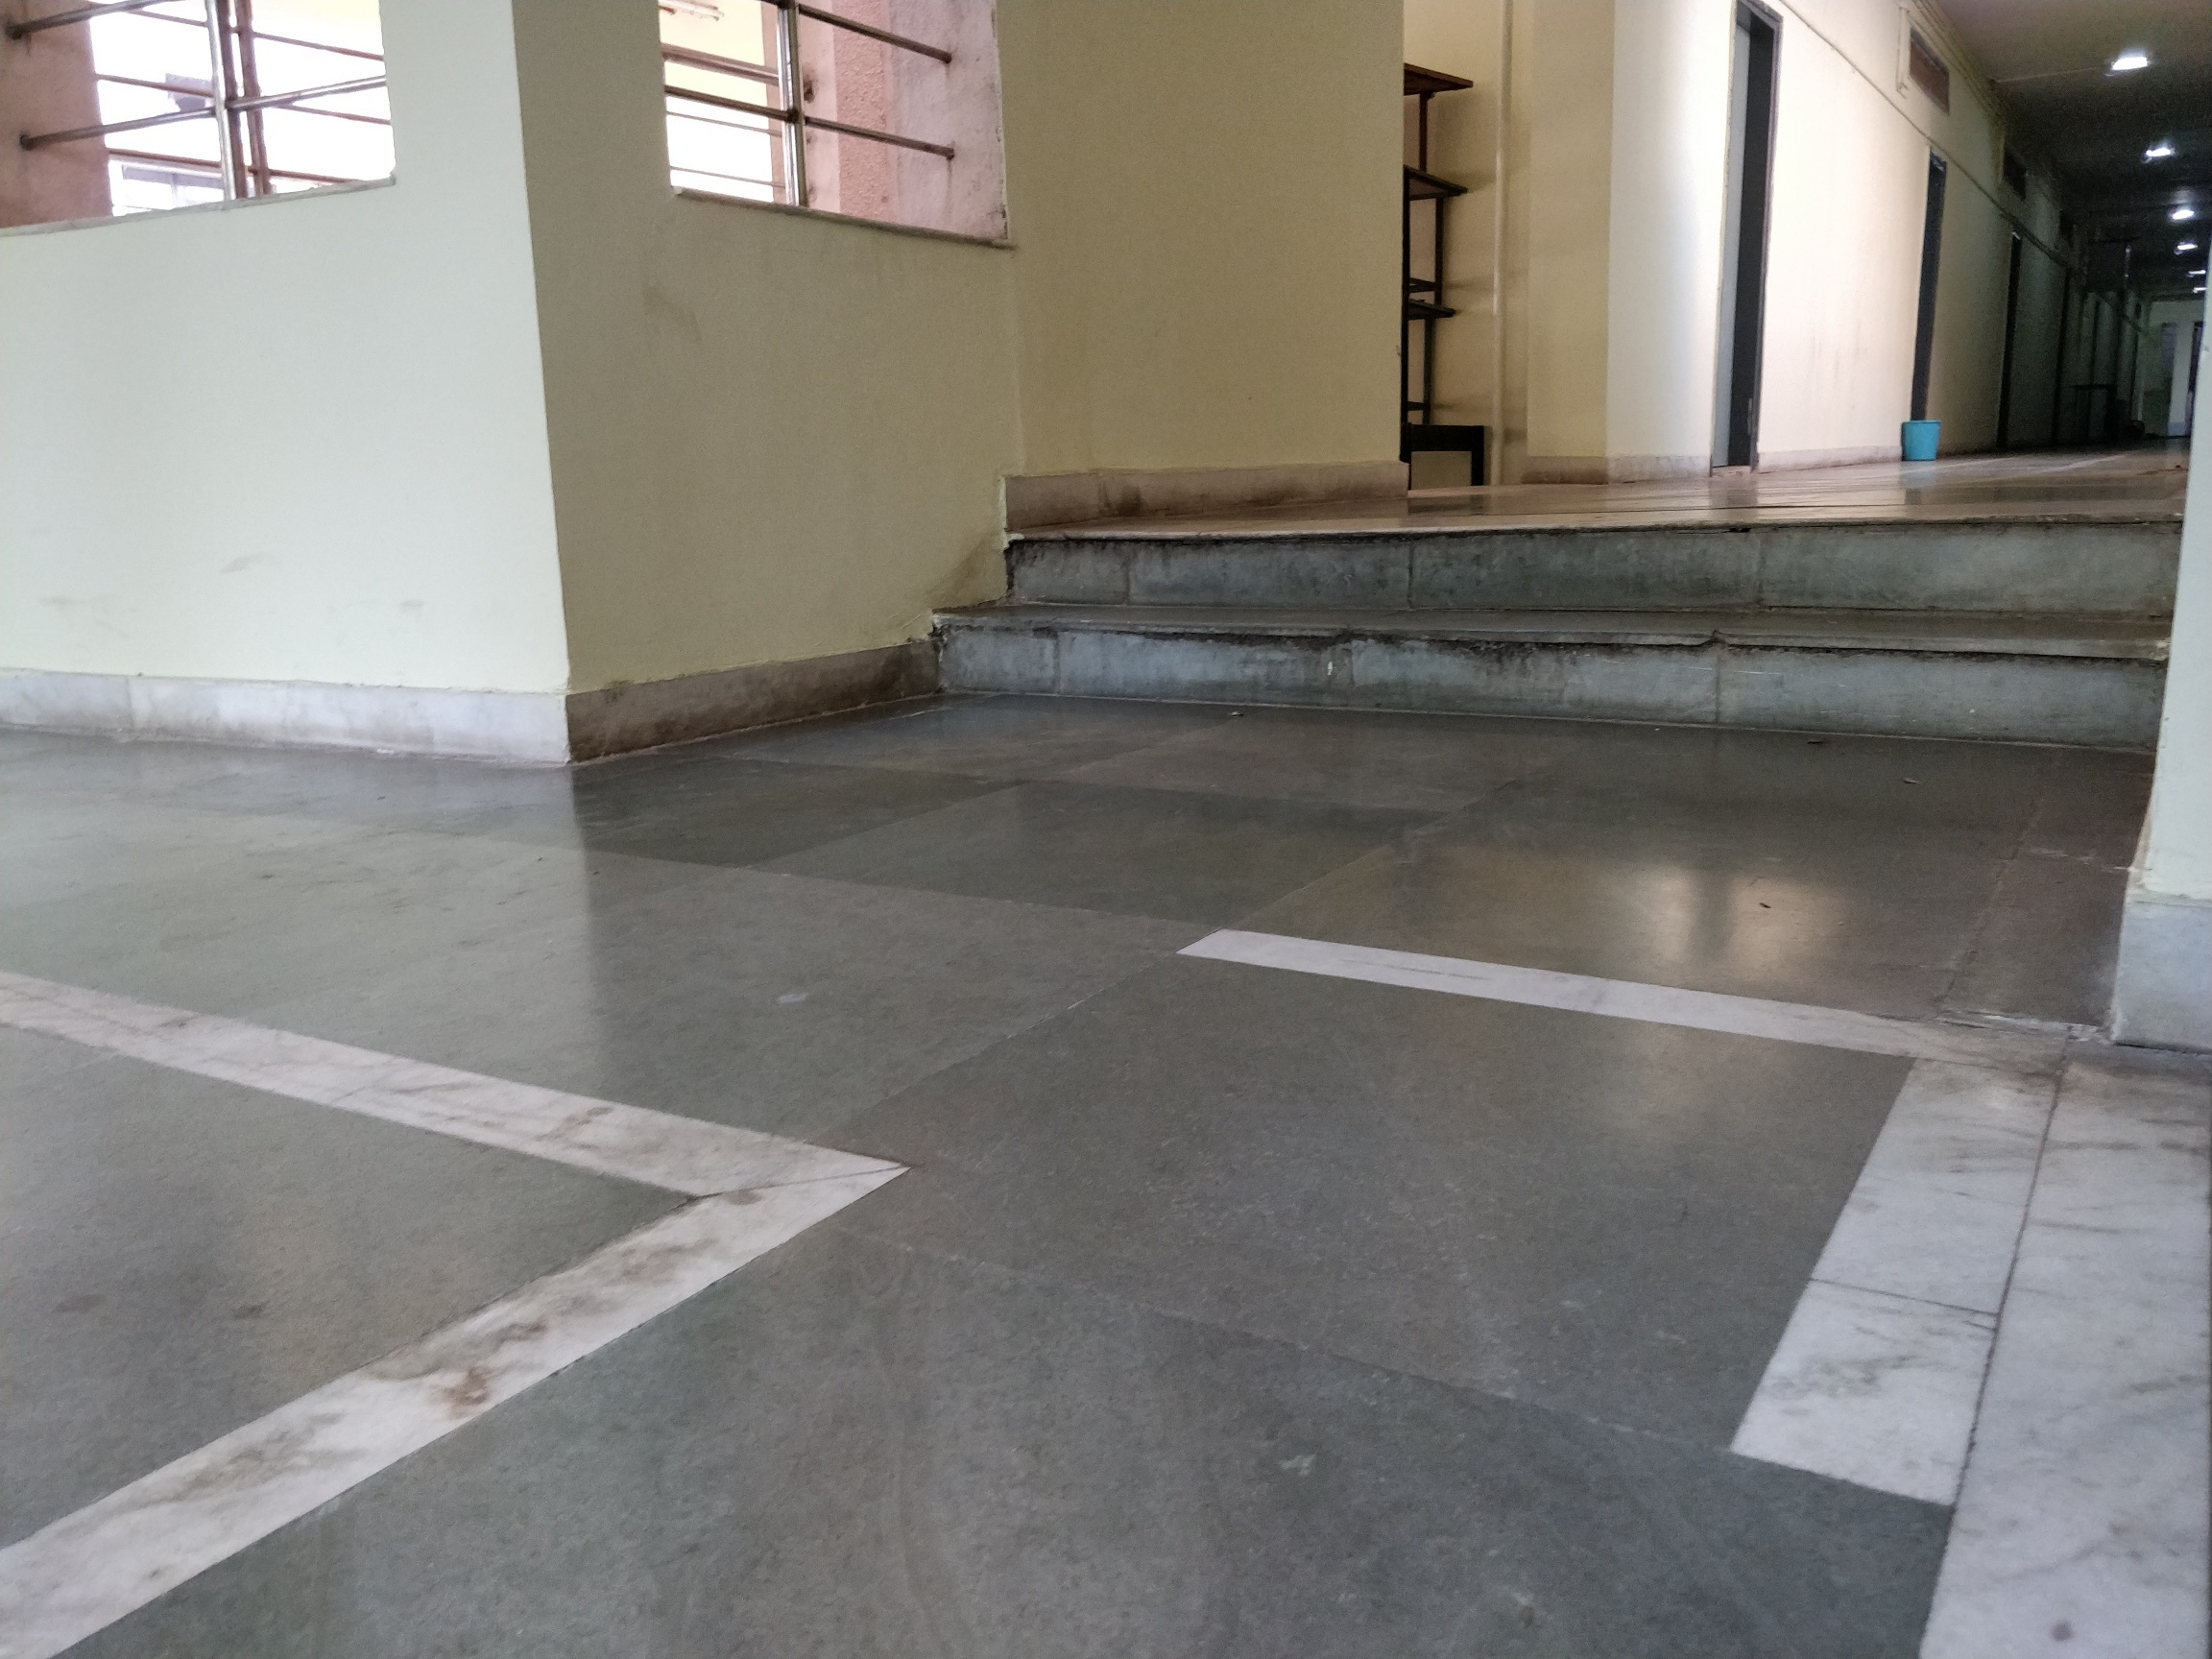stairs_up: (869, 491, 2189, 779)
